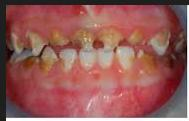Caries: (71, 32, 87, 51), (98, 34, 111, 52)
